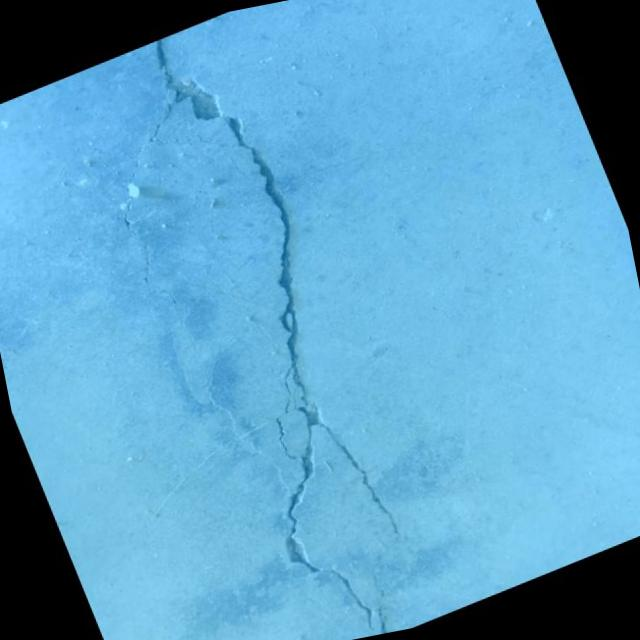crack: (121, 87, 451, 640), (109, 100, 234, 188), (134, 25, 224, 140), (358, 578, 400, 636), (114, 195, 144, 232), (368, 555, 389, 582)
